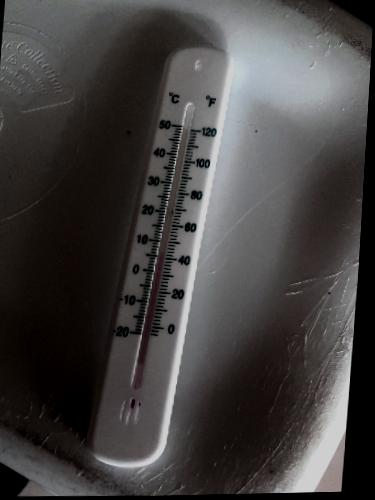thermo: (78, 39, 253, 474)
